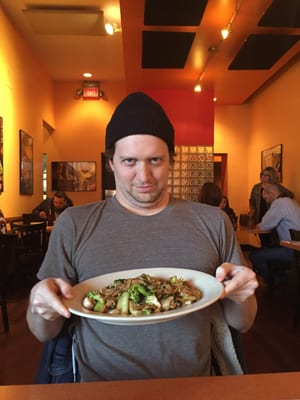curry: (1, 370, 300, 400), (236, 228, 263, 249)
pasta: (0, 233, 13, 334)
